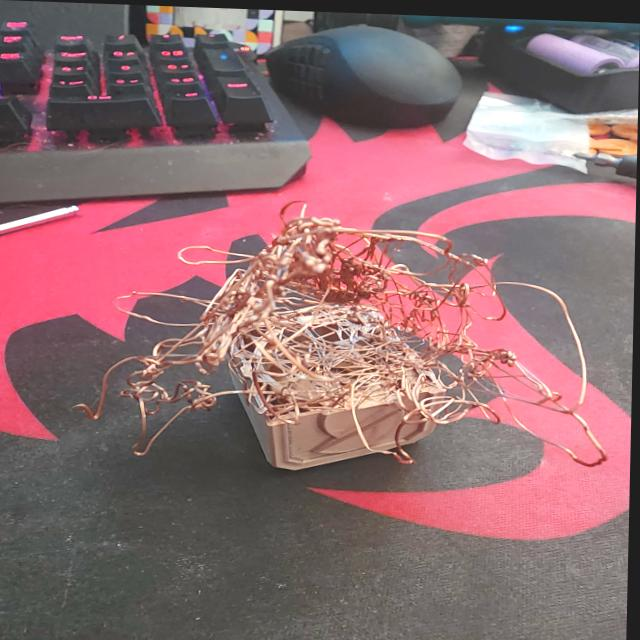spaghetti: (81, 200, 608, 468)
